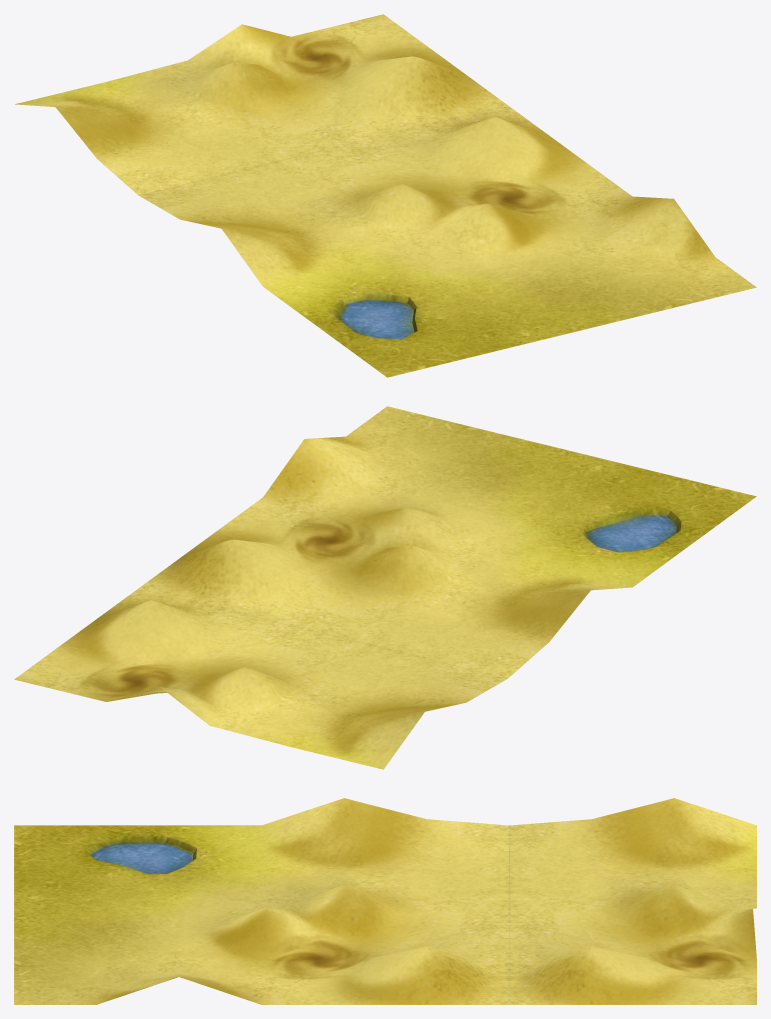
Rendered from GGYD_DX02.FBX.
3 views of the same model, one above another, from view 1: azimuth 30°, elevation 25°; view 2: azimuth 150°, elevation 25°; view 3: azimuth 270°, elevation 25° (orthographic).
Parts seen in each view (by area): view 1: Plane02, Plane03; view 2: Plane02, Plane03; view 3: Plane02, Plane03.
Part boxes in pixels (x1,y1,x2,y2): Plane02: (139, 105, 756, 377); Plane03: (15, 14, 507, 195); Plane02: (139, 406, 756, 678); Plane03: (14, 588, 507, 769); Plane02: (14, 798, 509, 1004); Plane03: (509, 798, 756, 1004).
Size of the model in its own units: 51.43 by 5 by 90.
